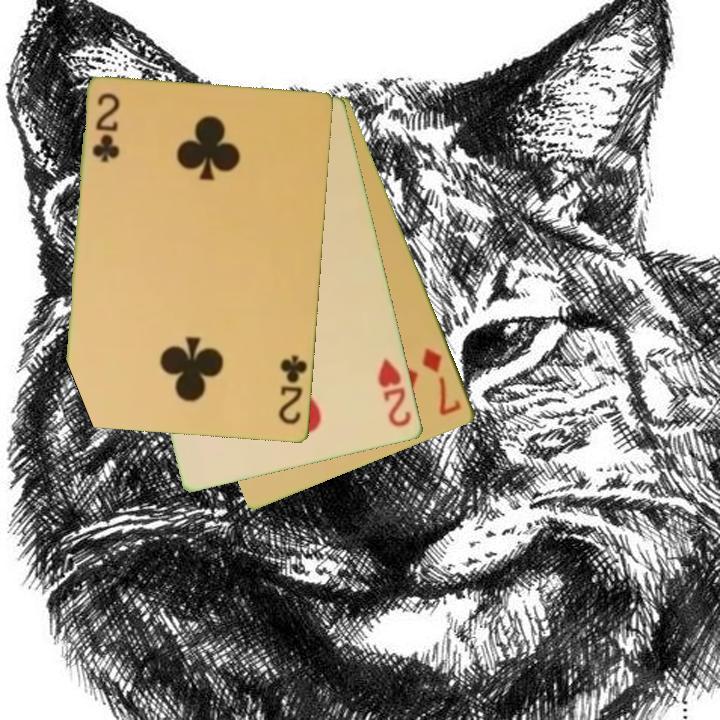2c: (275, 352, 311, 428), (89, 90, 123, 166)
2h: (374, 354, 415, 431)
7d: (419, 344, 465, 419)
